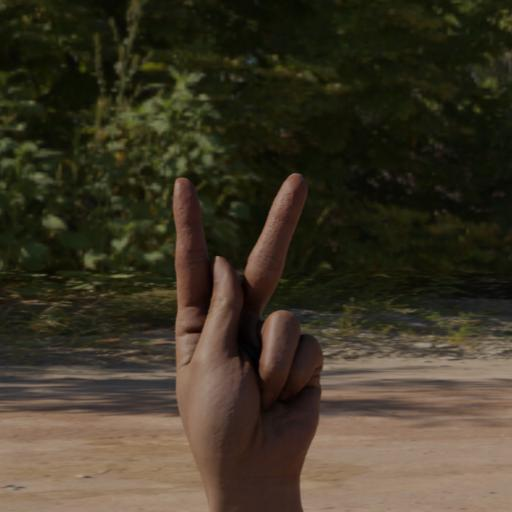K: (140, 152, 354, 488)
